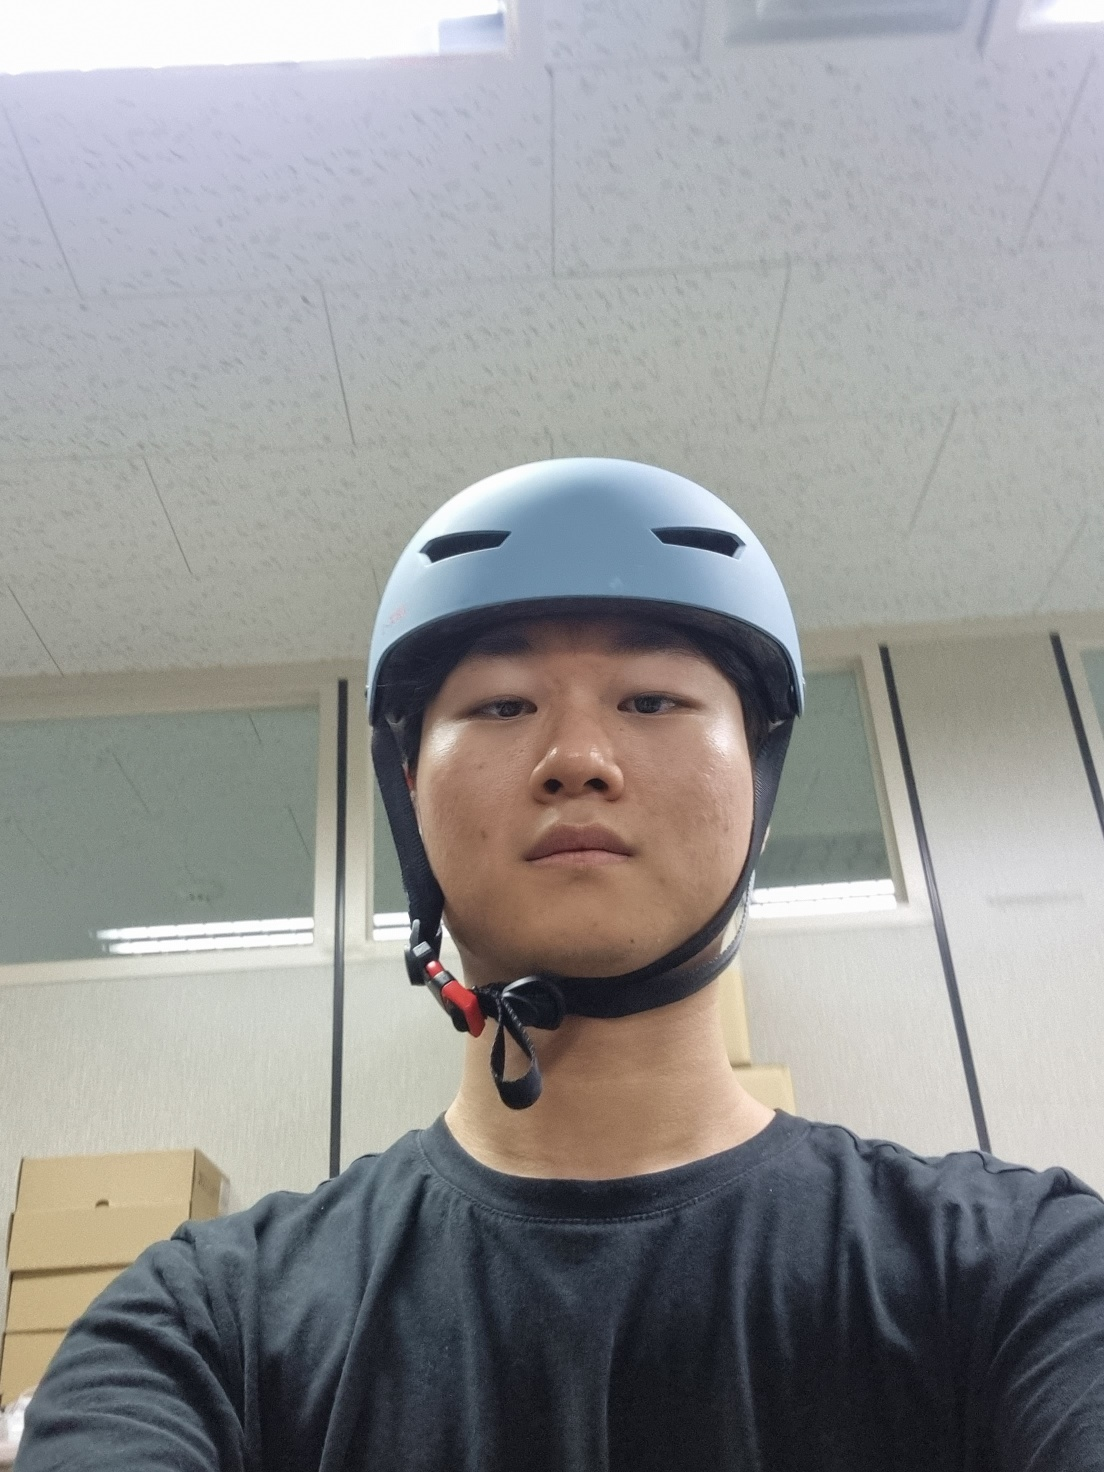Helmet: (315, 413, 873, 1102)
